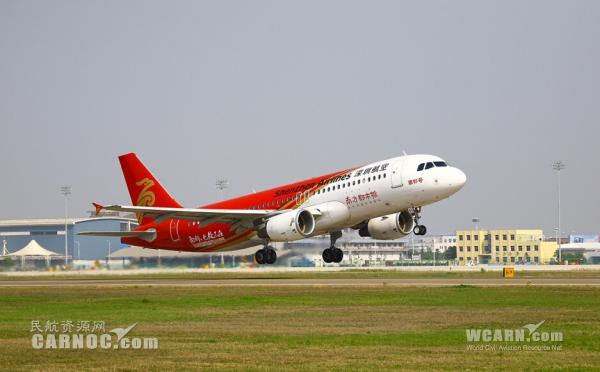airplane: (80, 148, 472, 261)
